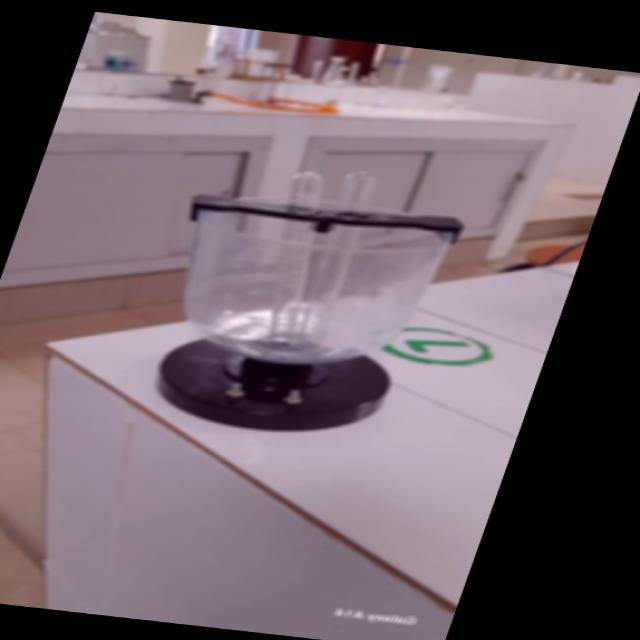Electrolyzer: (106, 151, 508, 452)
